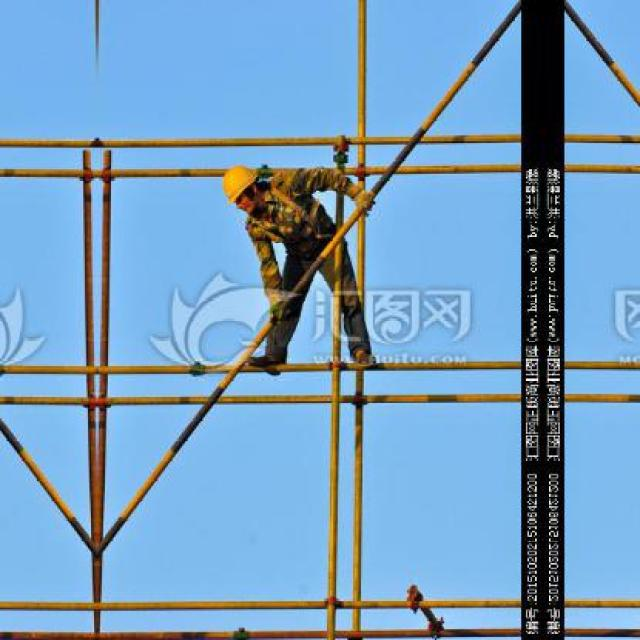helmet: (214, 159, 268, 213)
